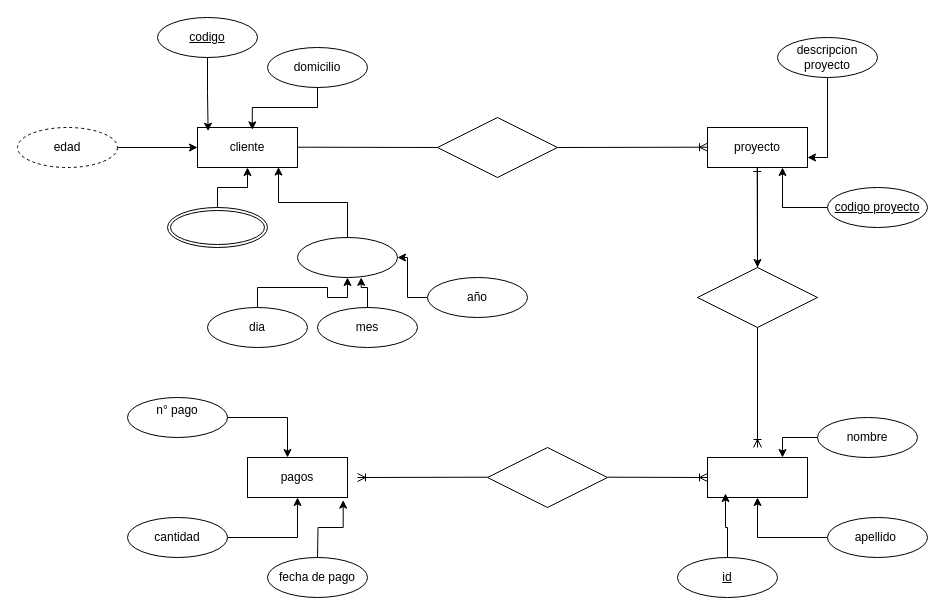
This 945x615 diagram has some shape labels left out. The centre of each missing label's shape, as x and y in pixels:
"colaborador" goes at point 757,477.
"diseña" goes at point 497,147.
"fecha de nacimiento" goes at point 347,257.
"participa" goes at point 757,297.
"recibir" goes at point 547,477.
"telefono" goes at point 217,227.
